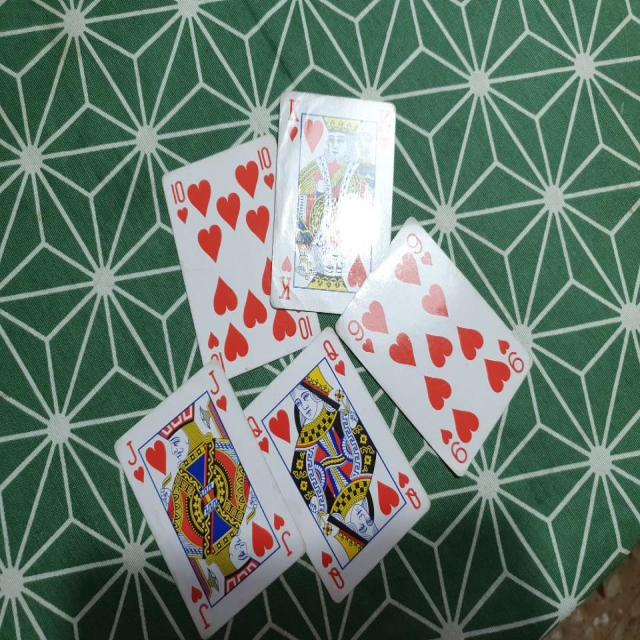10 Hearts: (144, 130, 326, 381)
9 Hearts: (333, 213, 541, 482)
J Hearts: (110, 353, 307, 636)
K Hearts: (271, 89, 396, 324)
Q Hearts: (246, 320, 435, 604)
